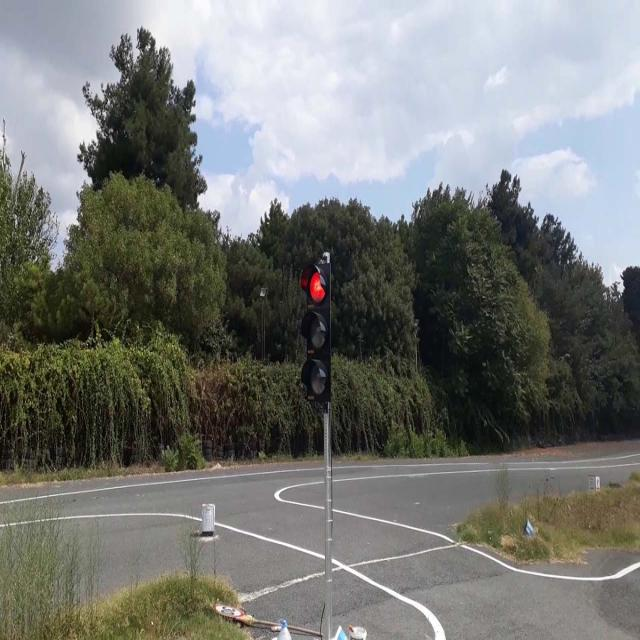kirmizi: (301, 260, 331, 402)
